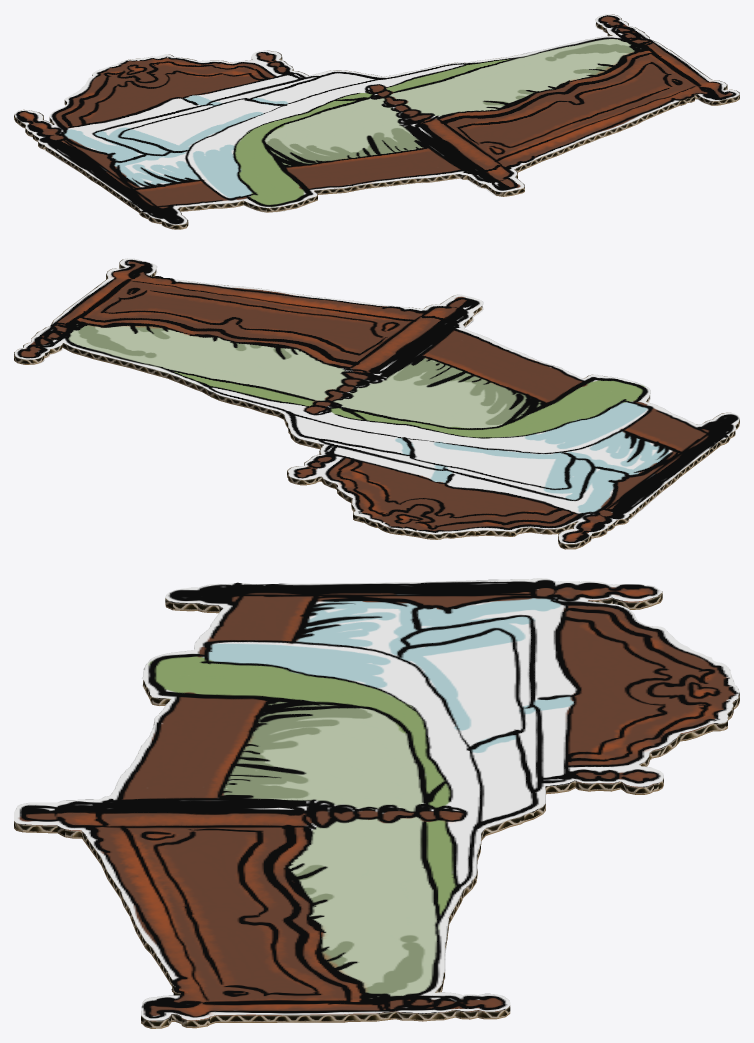
The model's file is bedMute.fbx.
3 renders of one model, top to bottom at view 1: azimuth 30°, elevation 25°; view 2: azimuth 150°, elevation 25°; view 3: azimuth 270°, elevation 25°, orthographic. The views are drawn at different scales.
Parts seen in each view (by area): view 1: Plane; view 2: Plane; view 3: Plane.
Boxes of the visible parts, left/top/right/bottom form: Plane: left=14, top=14, right=739, bottom=229; Plane: left=14, top=258, right=739, bottom=549; Plane: left=14, top=578, right=739, bottom=1028.
Size of the model in its own units: 6.21 by 0.05 by 4.3.
